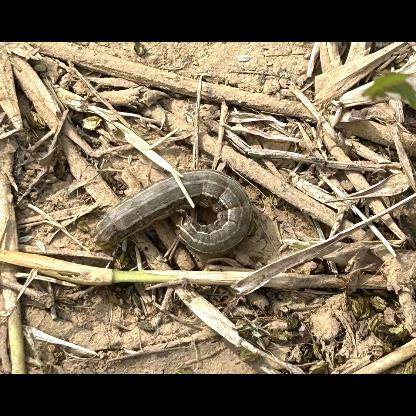Fall Armyworm Larvae: (87, 164, 256, 260)
